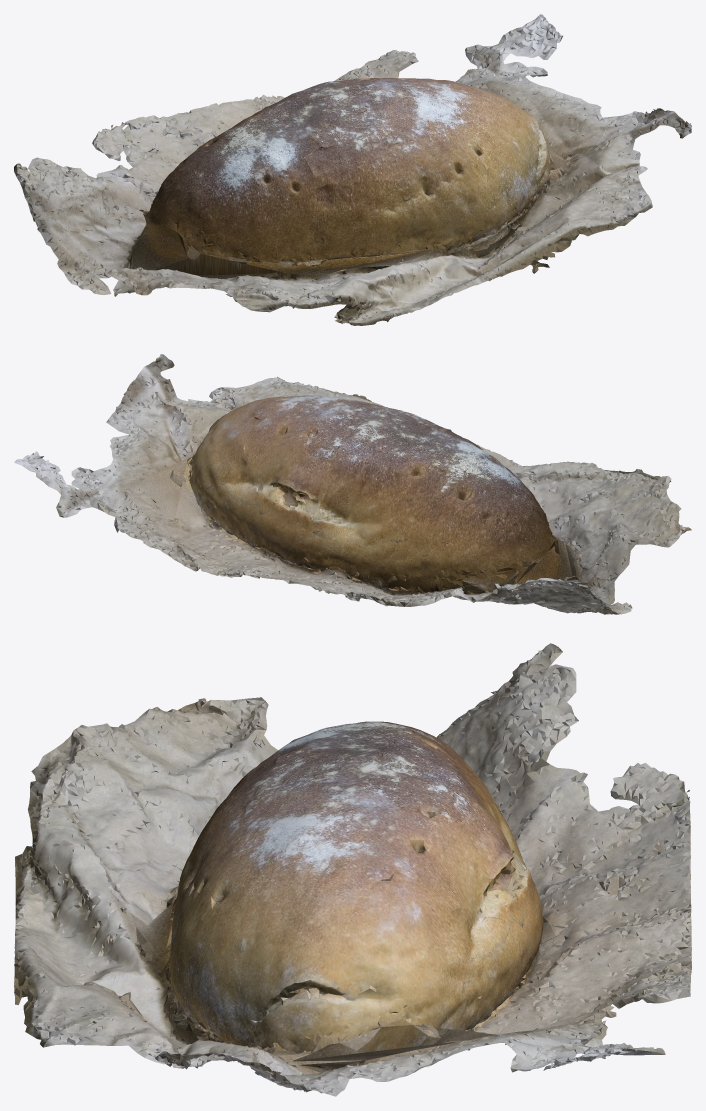
File: pan_04.fbx
3 views of the same model, one above another, from view 1: azimuth 30°, elevation 25°; view 2: azimuth 150°, elevation 25°; view 3: azimuth 270°, elevation 25° (orthographic). The views are drawn at different scales.
Visible parts, largest first — view 1: Model; view 2: Model; view 3: Model.
Boxes of the visible parts, x1=… form: Model: x1=14, y1=14, x2=691, y2=325; Model: x1=14, y1=354, x2=691, y2=614; Model: x1=14, y1=643, x2=691, y2=1096.
Size of the model in its own units: 109 by 26.64 by 75.87.
